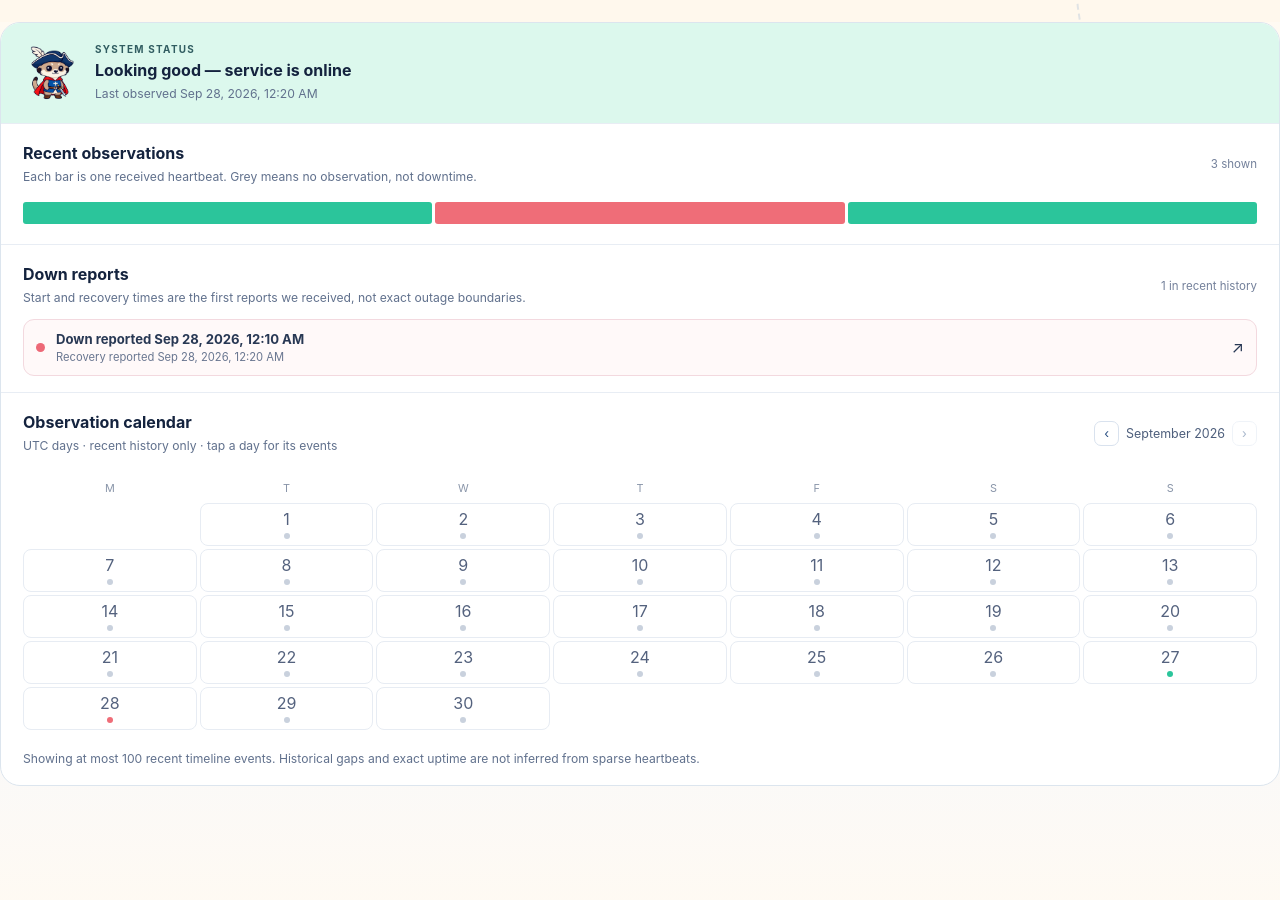
Test case: AvailabilityBoard › opens a down report with its reported reason and recovery observation
Check: the heading "Looking good — service is online" is shown, box x1=95 y1=60 x2=352 y2=80
Check: the text "1 in recent history" is shown, box x1=1161 y1=279 x2=1257 y2=293
What coordinates should you click on to do the following:
click the button "Down reported"
I would click on:
 (105, 339)
Its box is x1=23 y1=319 x2=1257 y2=376.
(page scrolled)
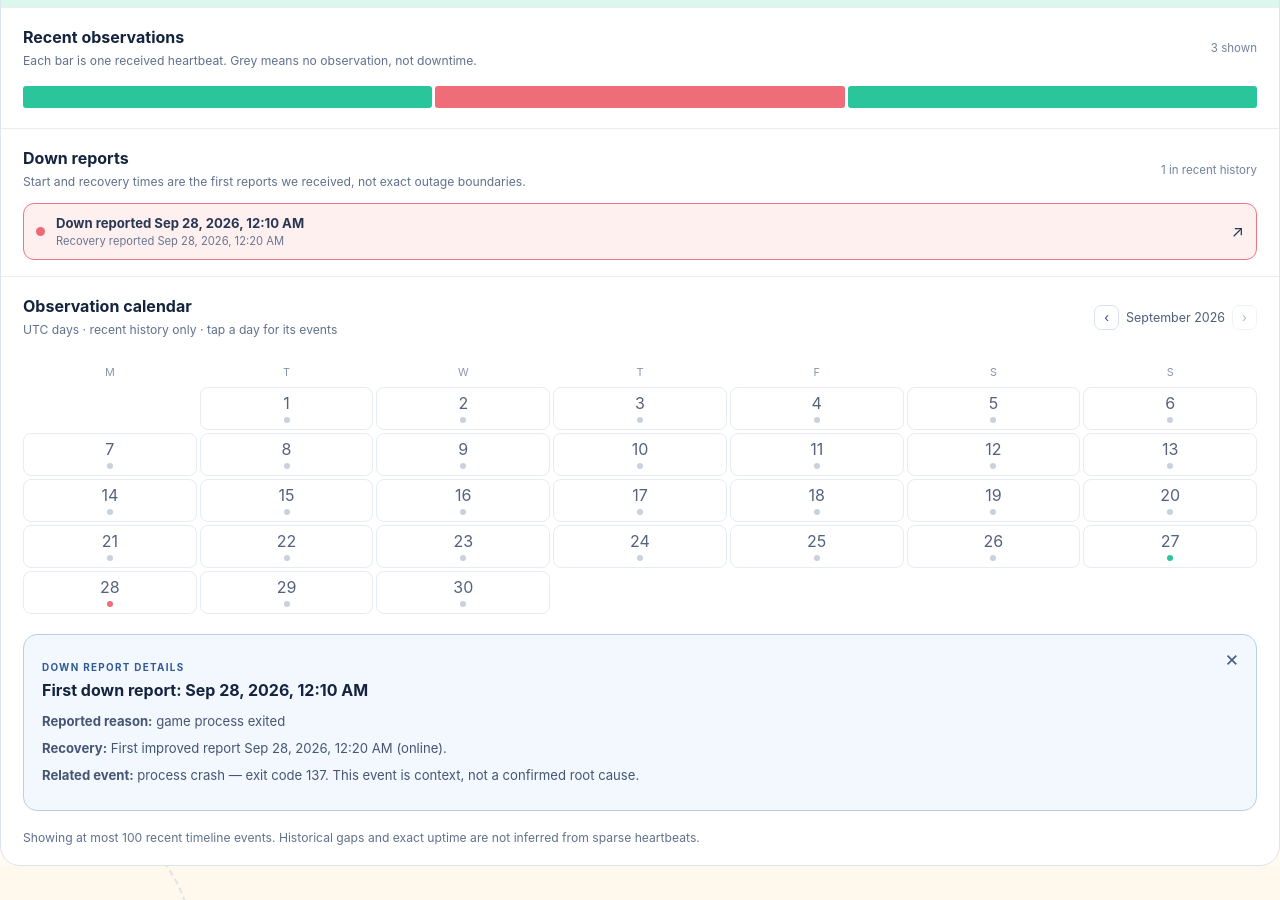
Check: the text "Reported reason:" is shown, box x1=42 y1=713 x2=152 y2=729
Check: the text "Reported reason: game process exited" is shown, box x1=42 y1=713 x2=285 y2=729
Check: the text "First improved report" is shown, box x1=111 y1=740 x2=447 y2=756
